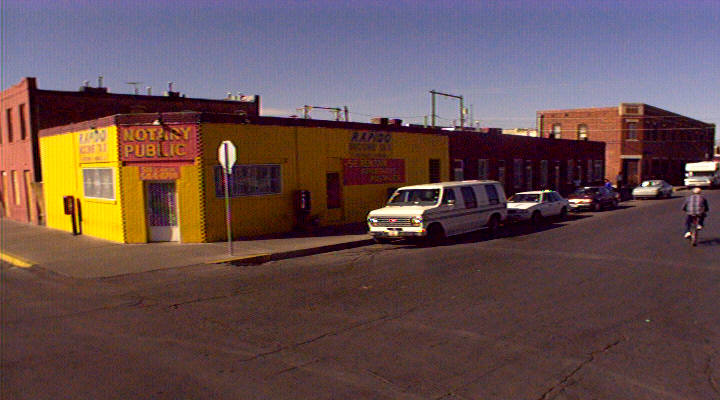Ramp: (18, 242, 229, 289)
